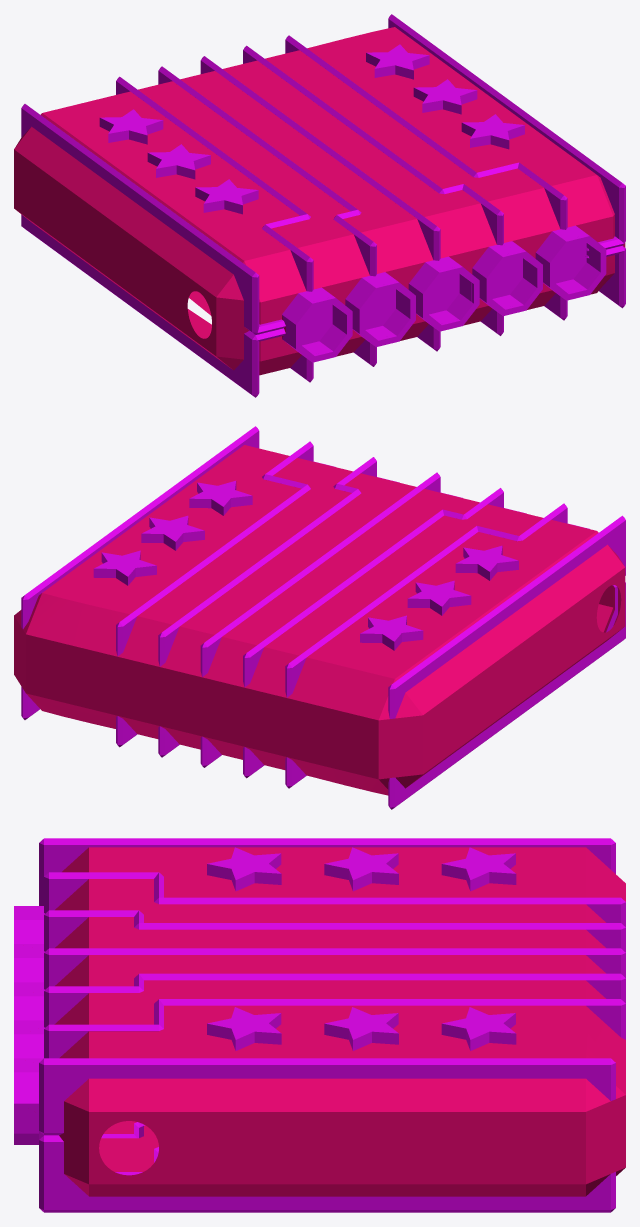
Rendered from PinkPain.fbx.
The picture shows the model from 3 angles, top to bottom: view 1: azimuth 30°, elevation 25°; view 2: azimuth 150°, elevation 25°; view 3: azimuth 270°, elevation 25°; orthographic projection. The views are drawn at different scales.
Parts seen in each view (by area): view 1: PinkPain; view 2: PinkPain; view 3: PinkPain.
Part boxes in pixels (x1,y1,x2,y2): PinkPain: (14, 14, 625, 397); PinkPain: (14, 426, 625, 809); PinkPain: (14, 838, 625, 1212).
Size of the model in its own units: 64 by 19.58 by 67.47.
